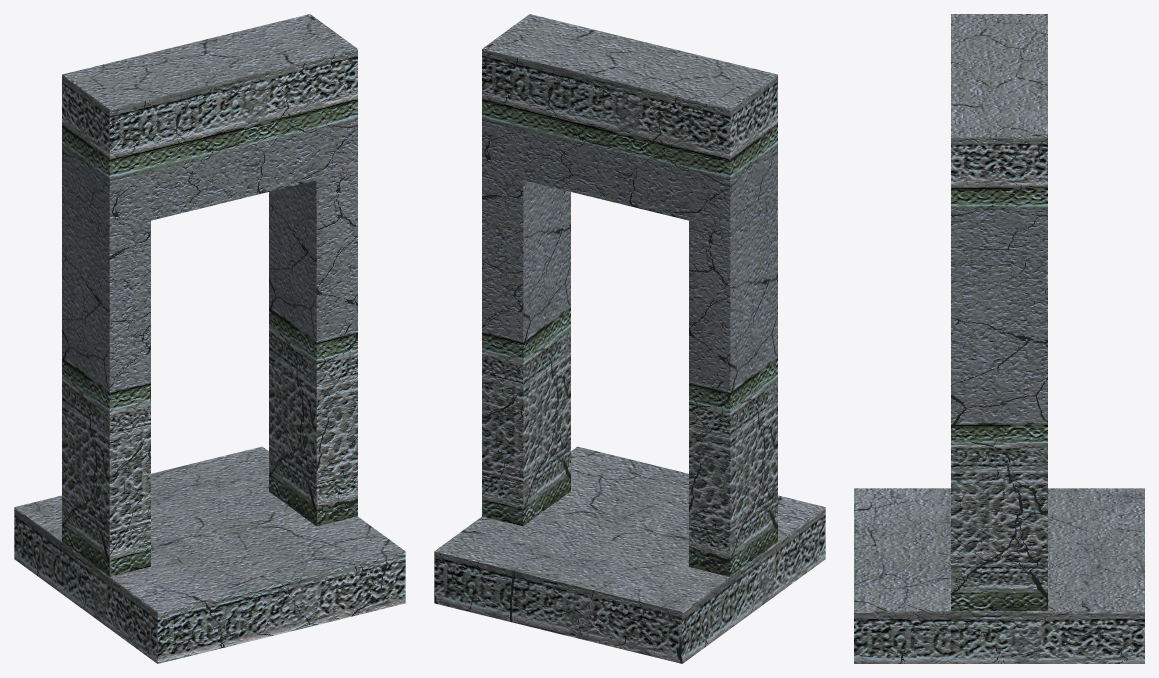
Rendered from door_1.fbx.
3 renders of one model, left to right at view 1: azimuth 30°, elevation 25°; view 2: azimuth 150°, elevation 25°; view 3: azimuth 270°, elevation 25°, orthographic.
Parts seen in each view (by area): view 1: door_1; view 2: door_1; view 3: door_1.
Part boxes in pixels (bbox=[...]): door_1: bbox=[14, 14, 405, 663]; door_1: bbox=[434, 14, 825, 663]; door_1: bbox=[854, 14, 1144, 663].
Size of the model in its own units: 100 by 200 by 100.
